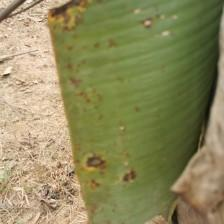pestalotiopsis: (47, 0, 224, 224)
